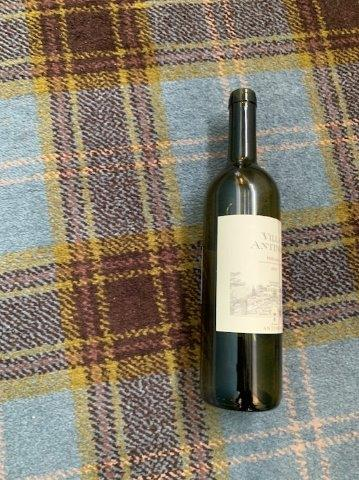botolkaca: (199, 88, 284, 409)
